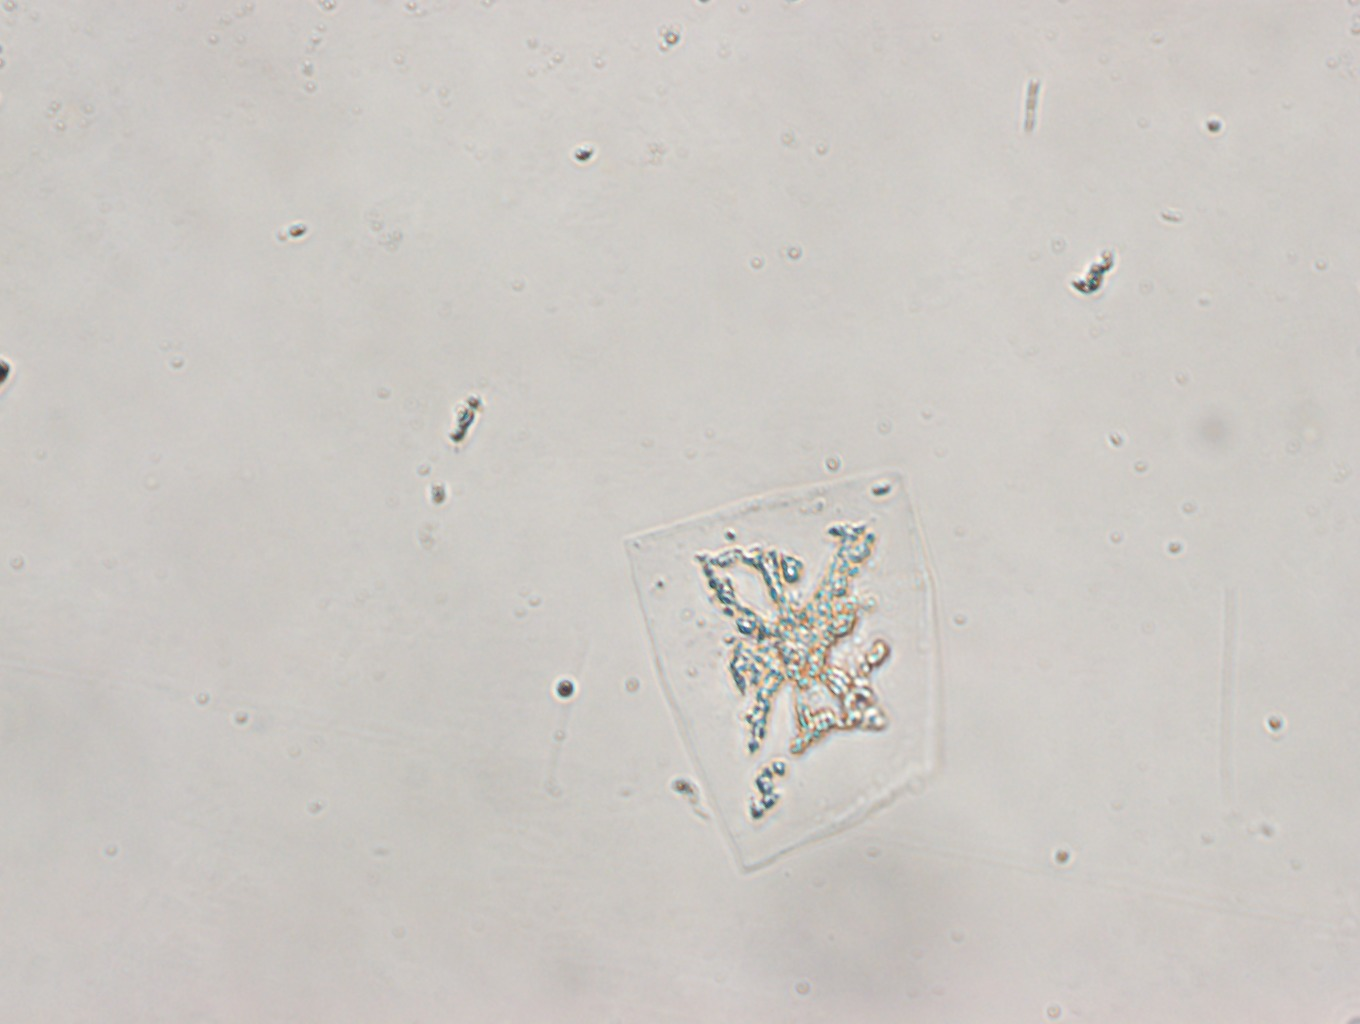helicotheca: (618, 464, 940, 874)
